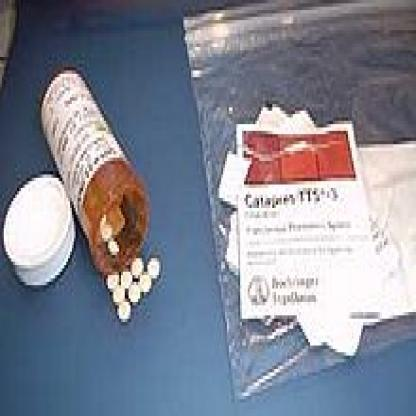jar: (28, 58, 167, 280)
